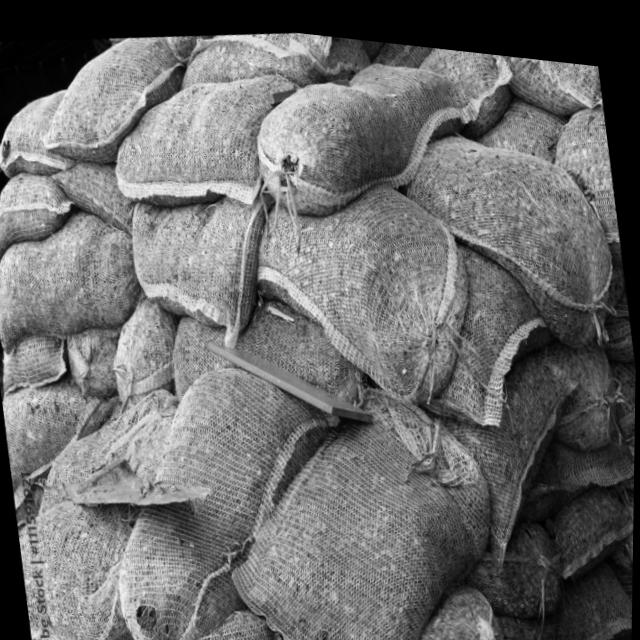sack: (206, 349, 516, 640), (90, 334, 372, 640), (244, 149, 487, 420), (396, 99, 625, 353), (245, 29, 498, 232), (432, 327, 601, 564), (102, 49, 315, 222), (407, 217, 563, 430), (126, 172, 295, 358), (164, 270, 367, 421), (29, 20, 198, 175), (0, 197, 148, 366), (15, 483, 155, 640), (1, 369, 115, 503), (496, 533, 634, 640), (175, 15, 338, 95), (459, 500, 568, 616), (545, 86, 622, 235), (414, 36, 520, 127), (548, 465, 635, 574), (547, 323, 624, 441), (0, 164, 81, 272), (403, 564, 512, 640), (0, 81, 80, 184), (488, 43, 603, 113), (49, 150, 139, 239), (483, 81, 568, 160), (541, 417, 636, 483), (0, 322, 73, 398), (613, 346, 637, 424)
